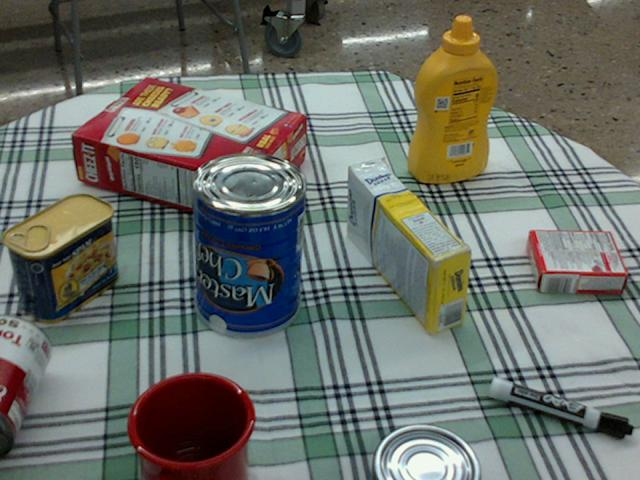cracker_box: (72, 78, 303, 223)
gelatin_box: (525, 230, 626, 294)
large_marker: (489, 376, 631, 438)
master_chef_can: (189, 152, 305, 337)
mug: (121, 371, 250, 479)
mustard_bottle: (406, 15, 496, 181)
potted_meat_can: (3, 193, 117, 322)
sugar_box: (346, 160, 471, 333)
tomato_soup_can: (0, 314, 50, 454)
tuna_fish_can: (369, 426, 479, 479)
